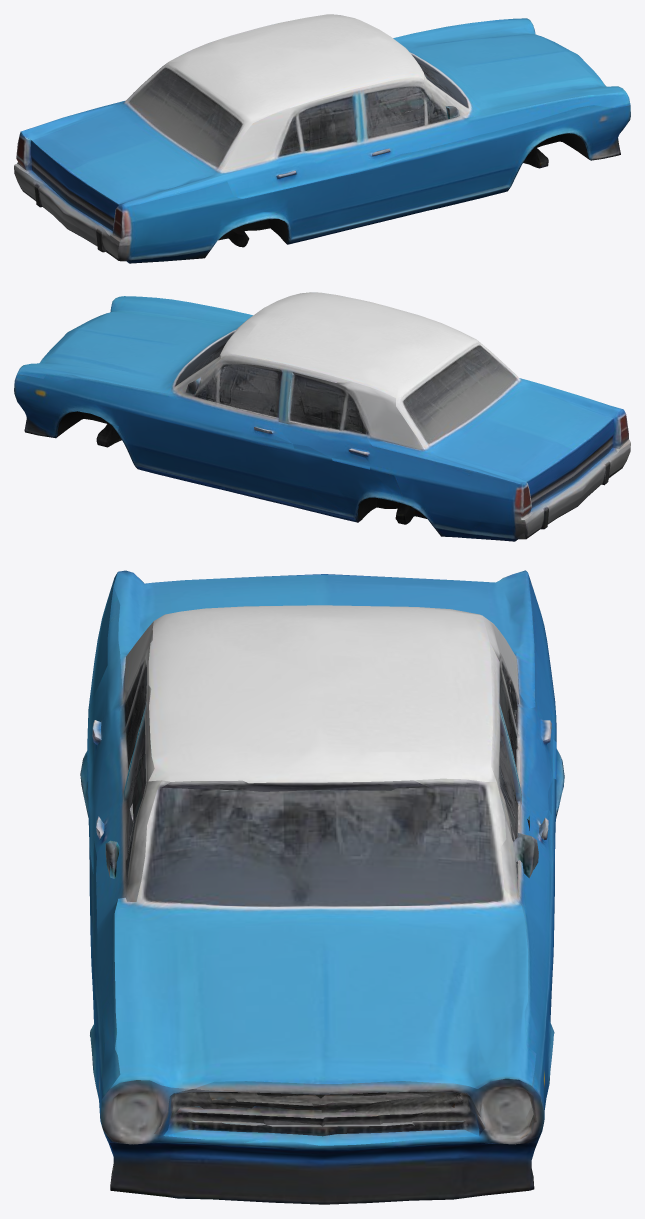
The model's file is falcon.glb.
3 renders of one model, top to bottom at view 1: azimuth 30°, elevation 25°; view 2: azimuth 150°, elevation 25°; view 3: azimuth 270°, elevation 25°, orthographic. The views are drawn at different scales.
Visible parts, largest first — view 1: falcon; view 2: falcon; view 3: falcon.
Part boxes in pixels (box(x1,y1,x2,y2)): falcon: box(14, 14, 630, 263); falcon: box(14, 292, 630, 541); falcon: box(80, 570, 564, 1204).
Size of the model in its own units: 4.6 by 1.21 by 1.86.
1 material, 1 textured.
